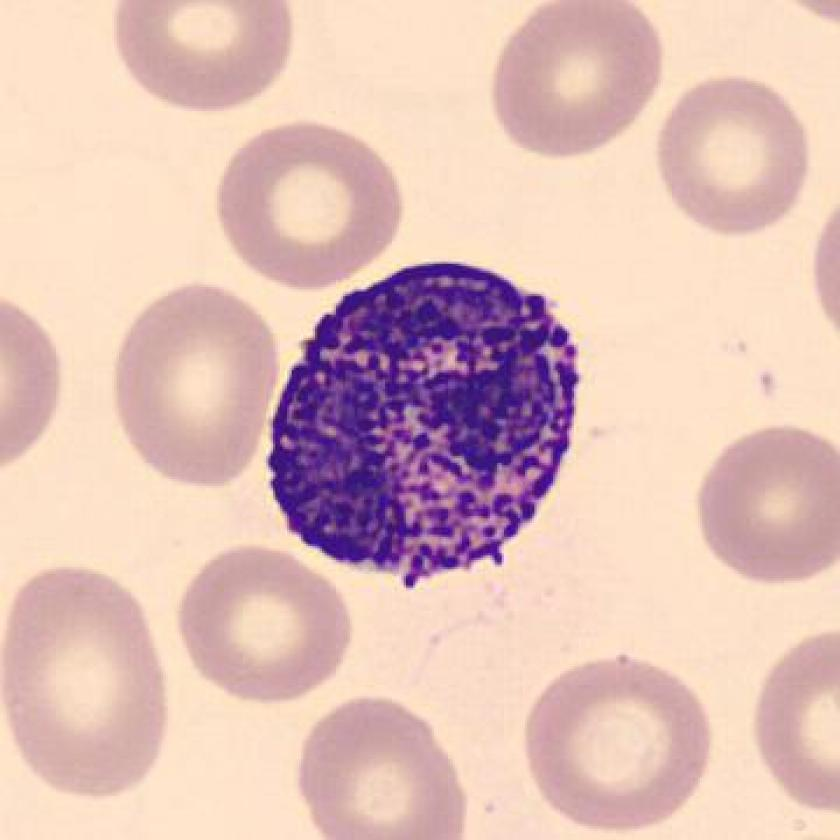basophil: (258, 265, 582, 582)
